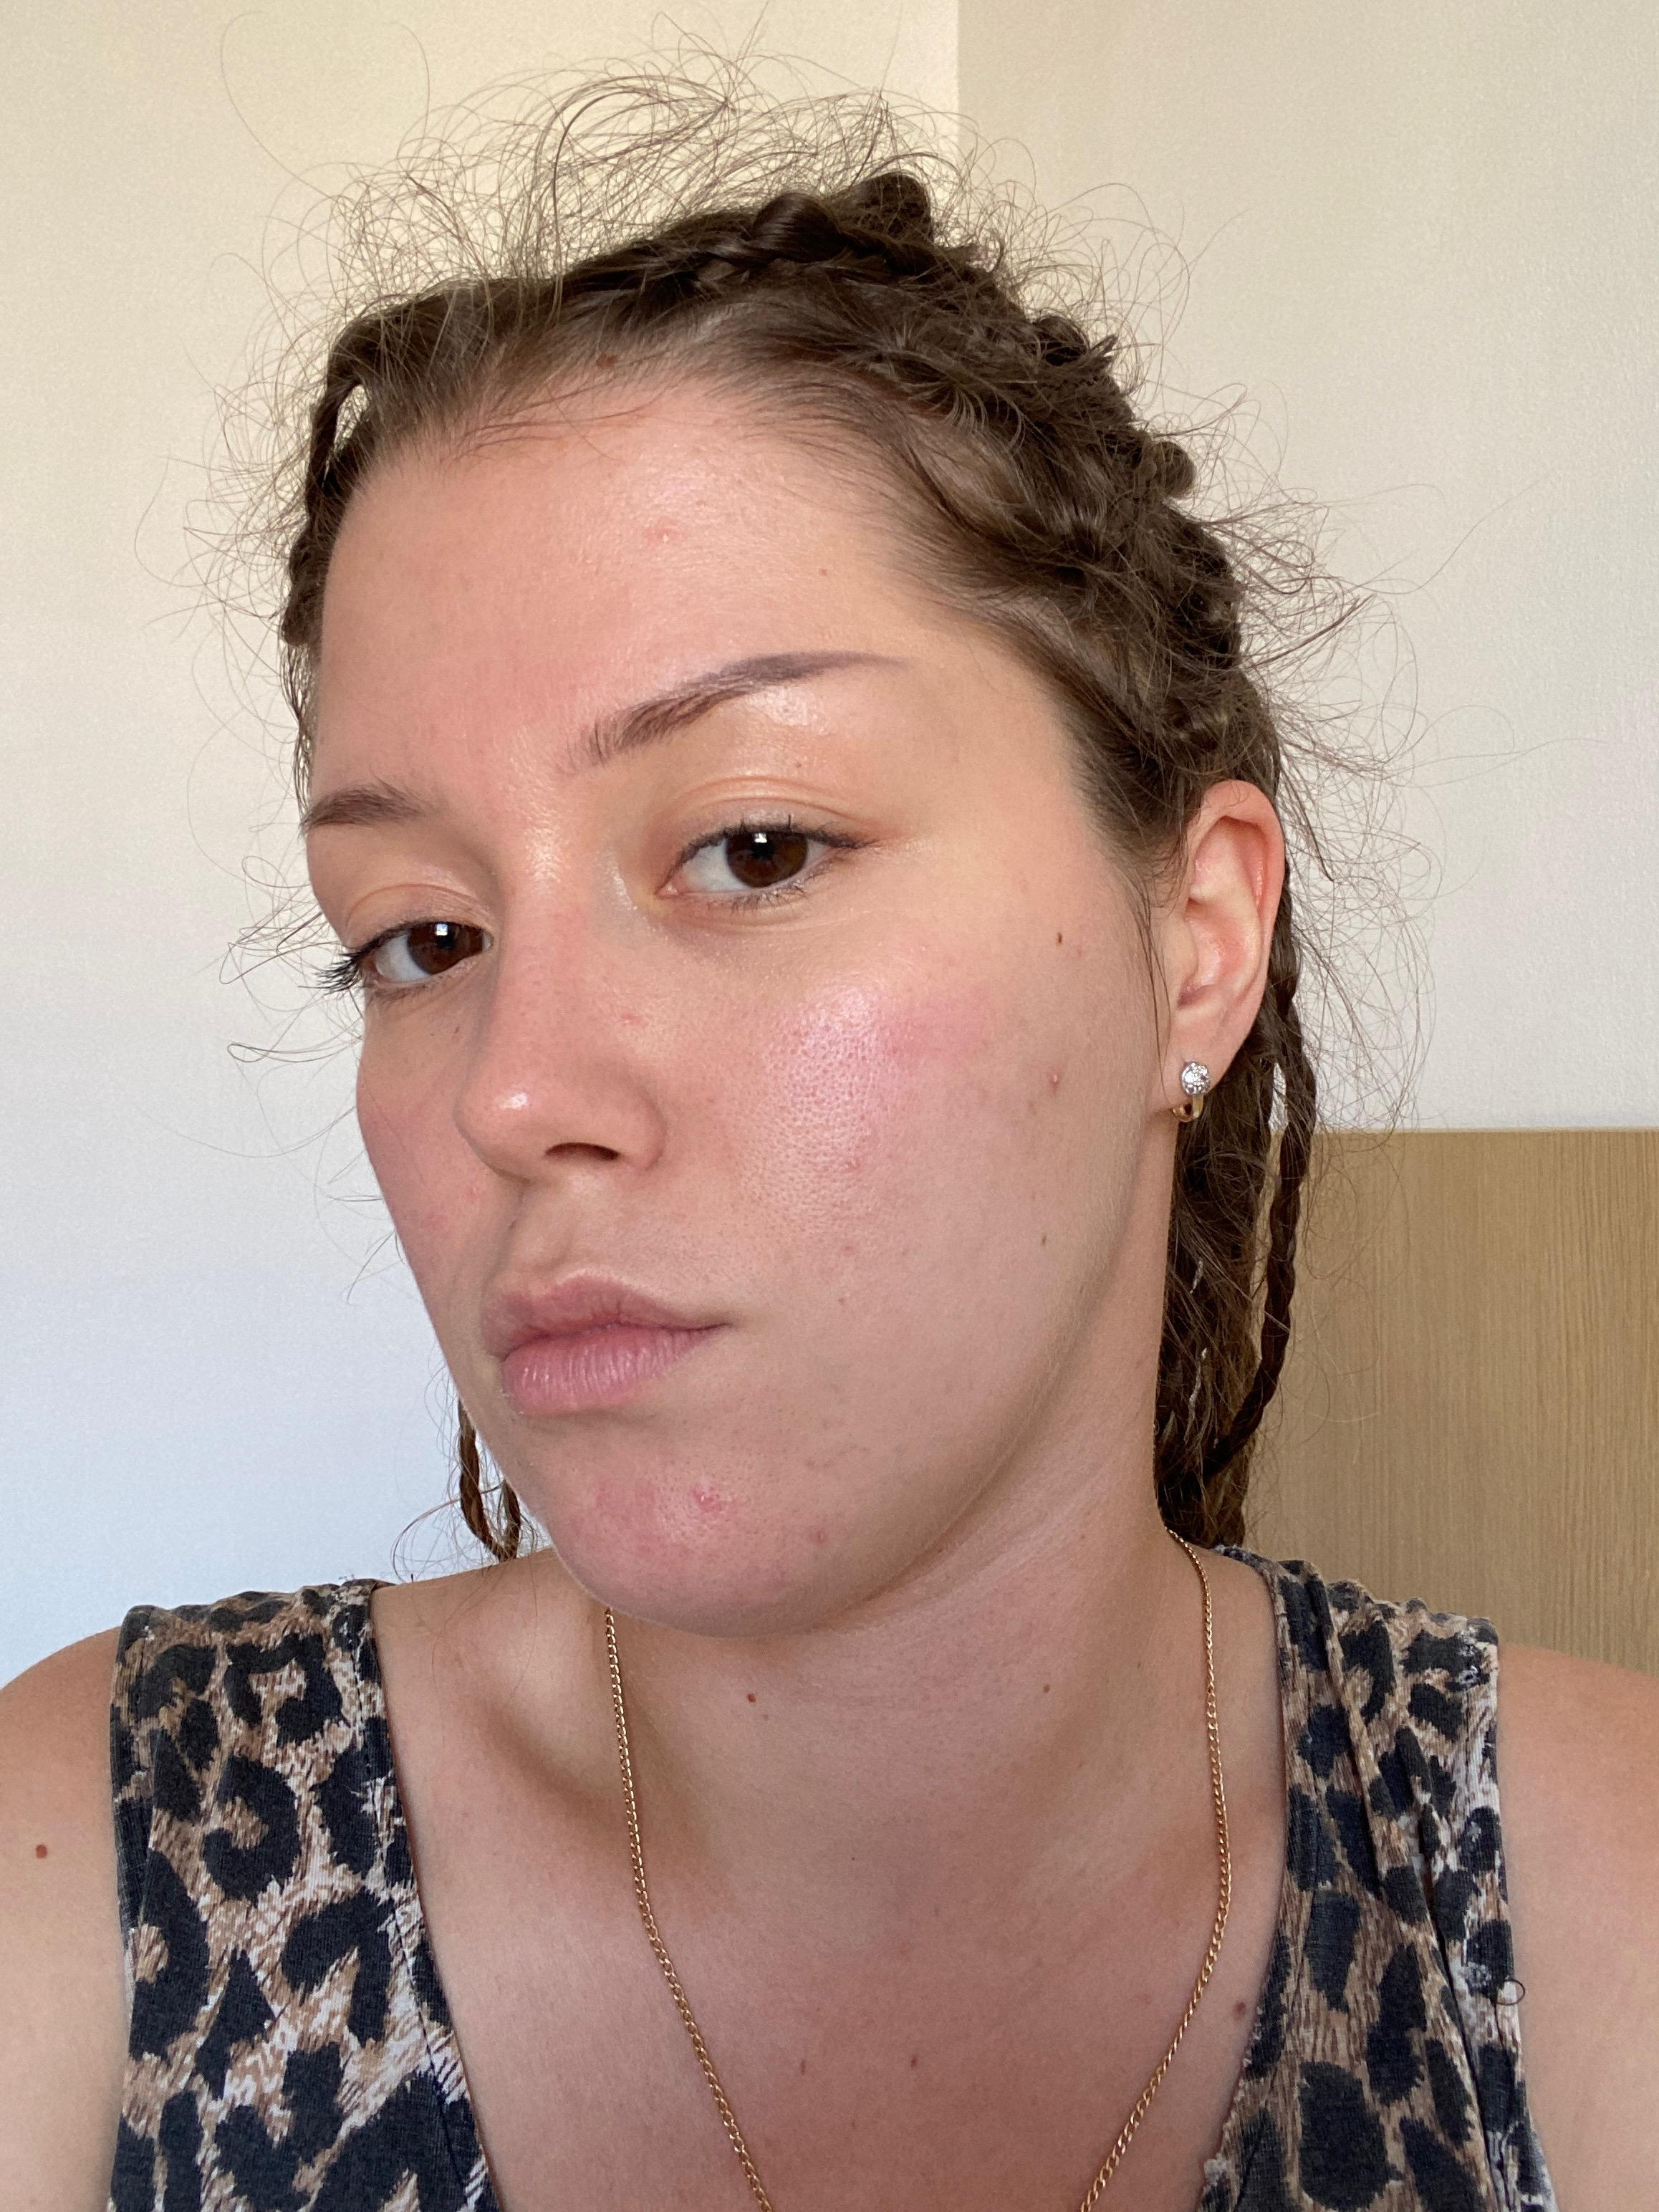Acne: (634, 519, 683, 557), (1033, 1062, 1070, 1104), (793, 1522, 838, 1555), (683, 1479, 723, 1514), (840, 1146, 873, 1186), (418, 1205, 460, 1235), (612, 1003, 643, 1031), (453, 1177, 481, 1195)
Englarged-Pores: (727, 977, 924, 1251), (634, 1440, 829, 1562), (518, 765, 568, 894)
